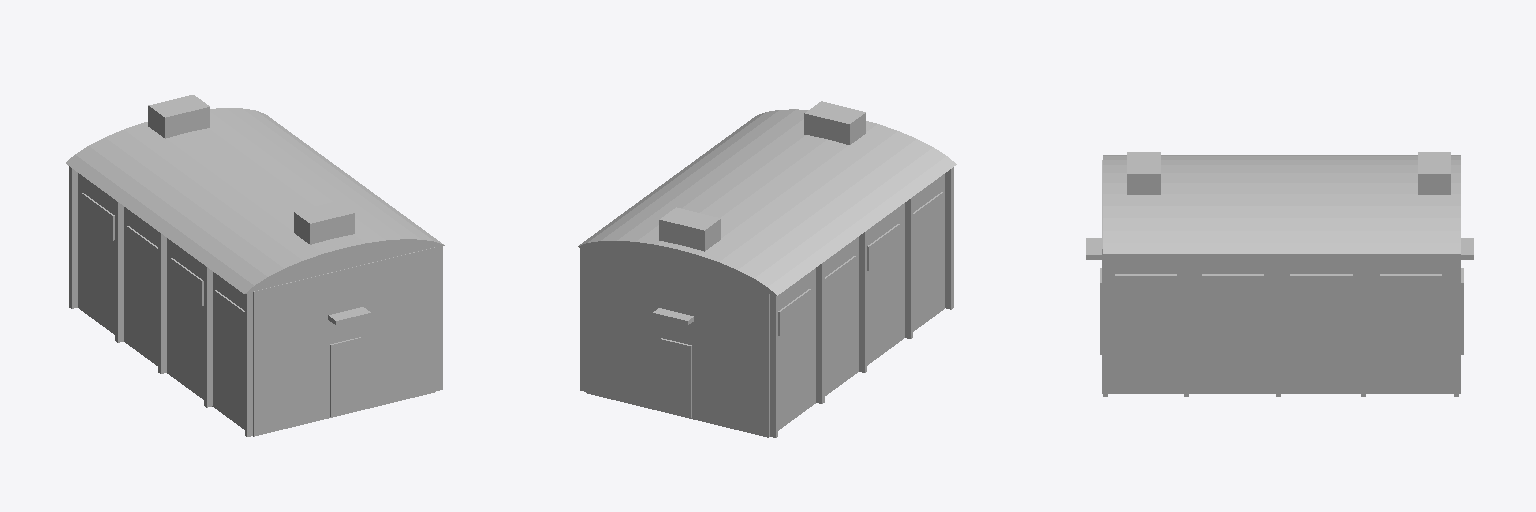
Rendered from gilad.obj.
3 renders of one model, left to right at view 1: azimuth 30°, elevation 25°; view 2: azimuth 150°, elevation 25°; view 3: azimuth 270°, elevation 25°, orthographic.
Visible parts, largest first — view 1: Cube_Cube, Cylinder_Cylinder, Cube.002_Cube.002, Cube.004_Cube.008, Cube.006_Cube.014, Cube.005_Cube.012; view 2: Cube_Cube, Cylinder_Cylinder, Cube.002_Cube.002, Cube.004_Cube.008, Cube.006_Cube.014, Cube.005_Cube.012; view 3: Cube_Cube, Cylinder_Cylinder, Cube.006_Cube.014, Cube.002_Cube.002, Cube.004_Cube.008, Cube.003_Cube.010.
Boxes of the visible parts, x1=… form: Cube_Cube: x1=78, y1=173, x2=435, y2=436; Cylinder_Cylinder: x1=66, y1=108, x2=444, y2=293; Cube.002_Cube.002: x1=69, y1=166, x2=442, y2=436; Cube.004_Cube.008: x1=148, y1=95, x2=354, y2=244; Cube.006_Cube.014: x1=82, y1=193, x2=244, y2=336; Cube.005_Cube.012: x1=330, y1=337, x2=361, y2=416; Cube_Cube: x1=586, y1=174, x2=944, y2=437; Cylinder_Cylinder: x1=578, y1=109, x2=956, y2=295; Cube.002_Cube.002: x1=580, y1=167, x2=953, y2=437; Cube.004_Cube.008: x1=659, y1=101, x2=865, y2=251; Cube.006_Cube.014: x1=778, y1=192, x2=943, y2=335; Cube.005_Cube.012: x1=660, y1=338, x2=691, y2=417; Cube_Cube: x1=1102, y1=160, x2=1460, y2=393; Cylinder_Cylinder: x1=1103, y1=155, x2=1460, y2=253; Cube.006_Cube.014: x1=1115, y1=274, x2=1441, y2=299; Cube.002_Cube.002: x1=1103, y1=254, x2=1458, y2=396; Cube.004_Cube.008: x1=1127, y1=152, x2=1450, y2=194; Cube.003_Cube.010: x1=1086, y1=238, x2=1473, y2=259.
Bounding box in the file's own units: 2.75 × 2.44 × 4.6.